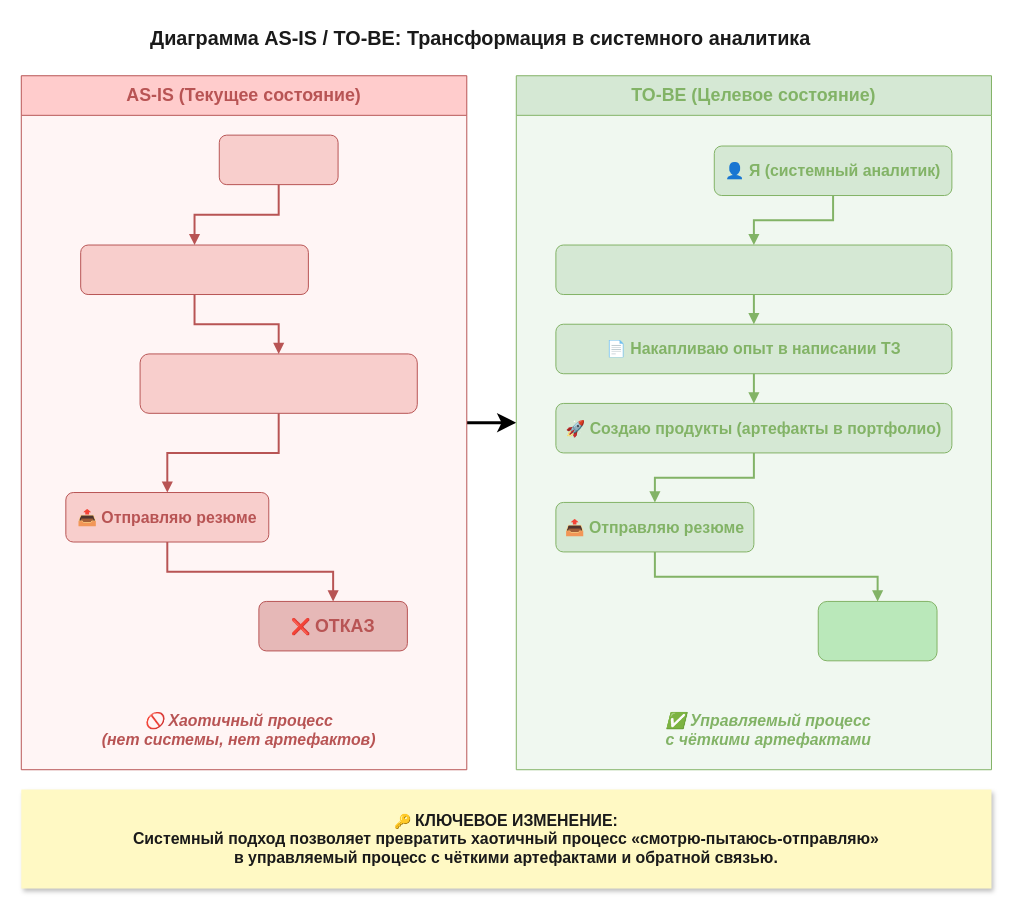
The diagram is 1014 pixels wide and 912 high, and some of its shapes have lost their labels. The shapes that lost their labels are listed below. From the top down, each one's centre as x and y in pixels, then its label:
At point 278,159: "👤 Я".
At point 194,269: "🎬 Смотрю видео - уроки".
At point 753,269: "📋 Систематизирую знания".
At point 278,383: "💫 Хаотично изучаю материалы".
At point 877,630: "🎯 ОФФЕР".
